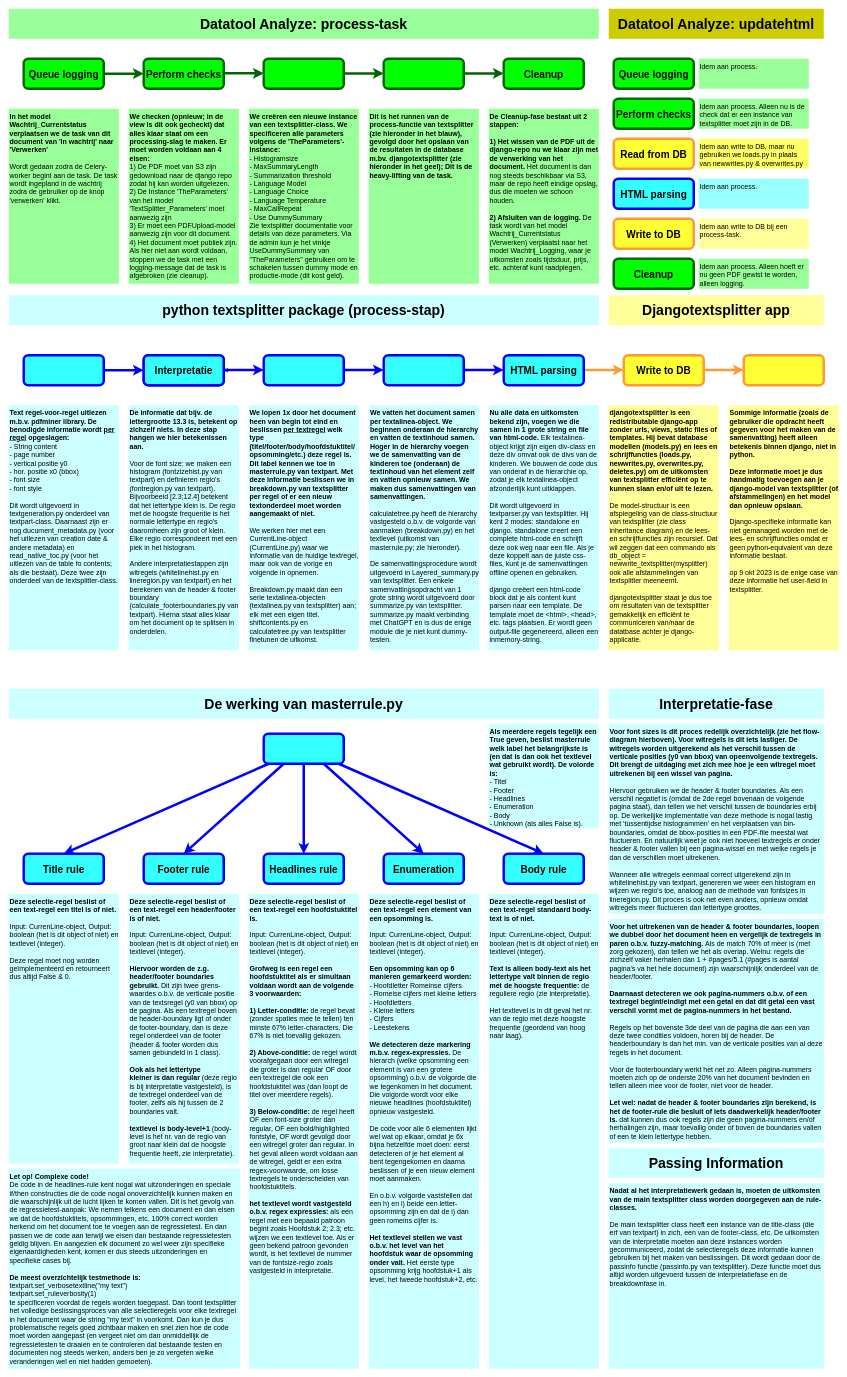
Image size: 847x1377. Some labels were removed from this diagram. Here are the shapes that lost their labels. From the top down, the centre of each, then its label:
[303,73]: Parameters
[423,73]: Process
[63,370]: PDF inlezen
[303,370]: Breakdown
[423,370]: Samenvatten
[783,370]: Add django-info
[303,748]: Masterrule
